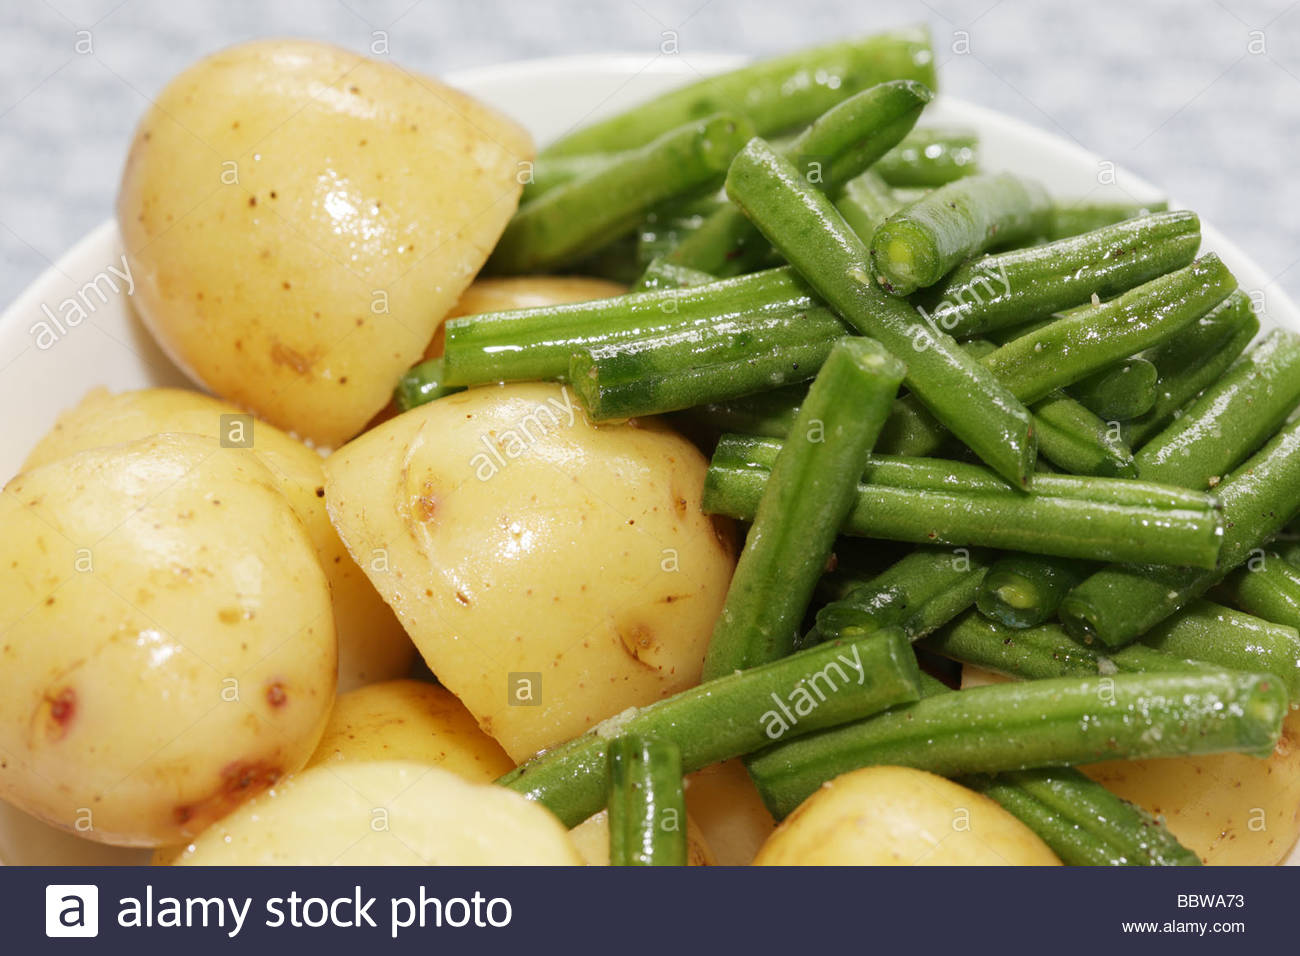boiled peas: (578, 81, 1288, 767)
boiled potatoes: (17, 36, 695, 865)
